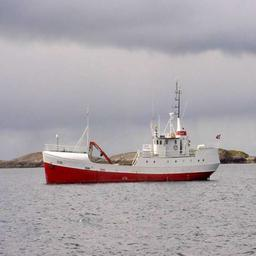Ship: (39, 114, 223, 188)
